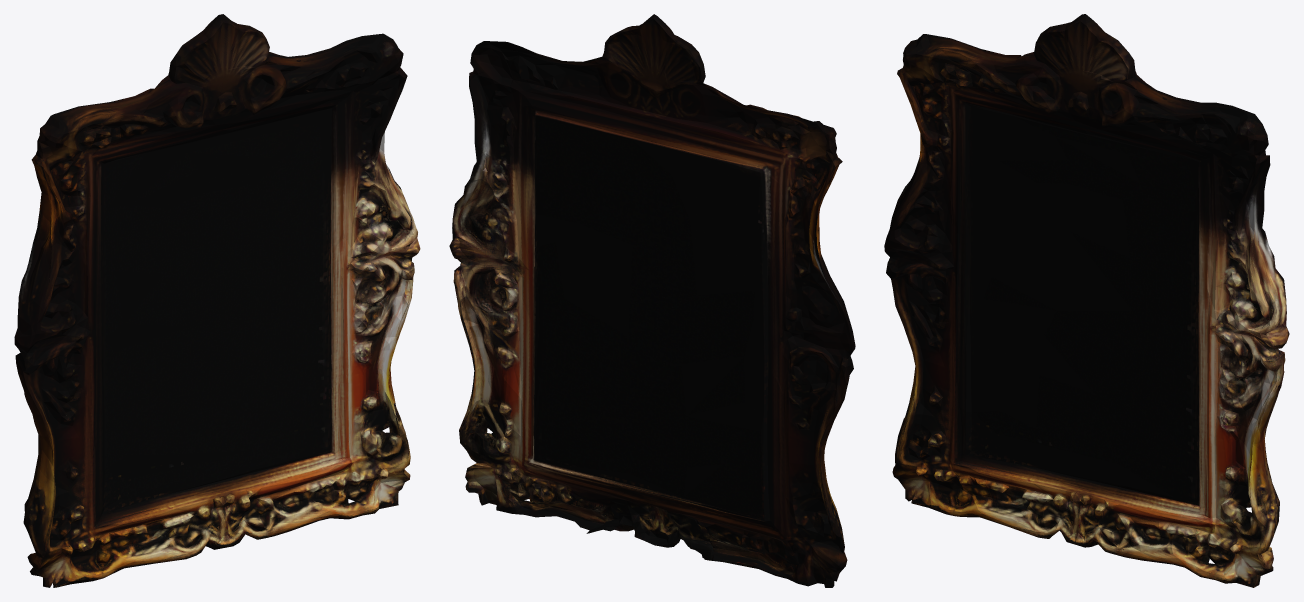
The model's file is wooden-mirror-frame-vintage.jpeg.glb.
3 views of the same model, side by side, from view 1: azimuth 30°, elevation 25°; view 2: azimuth 150°, elevation 25°; view 3: azimuth 330°, elevation 25° (orthographic).
Parts seen in each view (by area): view 1: world; view 2: world; view 3: world.
Part boxes in pixels (<box>): world: <box>14,14,420,587</box>; world: <box>449,14,855,587</box>; world: <box>884,14,1289,587</box>.
Size of the model in its own units: 0.7948 by 1 by 0.0754.
1 material, 1 textured.
